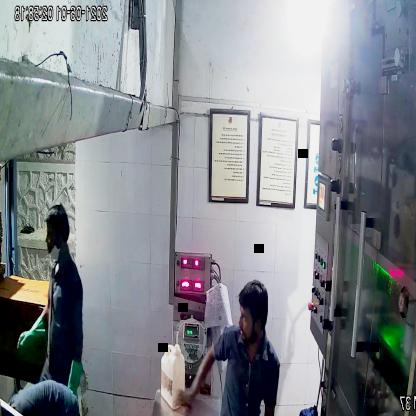no_goggles: (237, 307, 270, 333)
